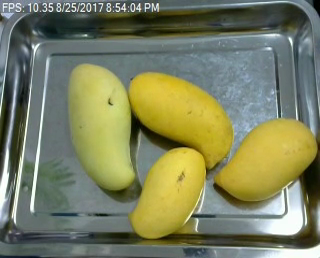Mango: (125, 68, 234, 170), (213, 115, 319, 205), (67, 60, 137, 192), (125, 144, 211, 238)
